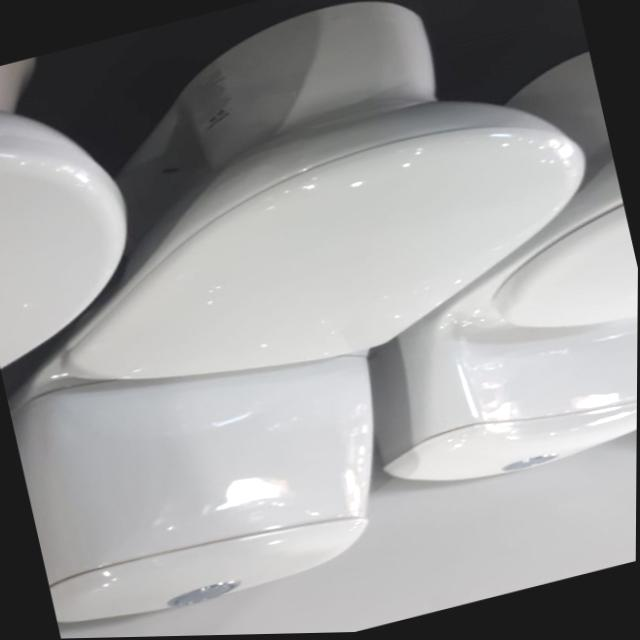toilet: (0, 0, 640, 640), (303, 53, 640, 508), (0, 43, 157, 369)
